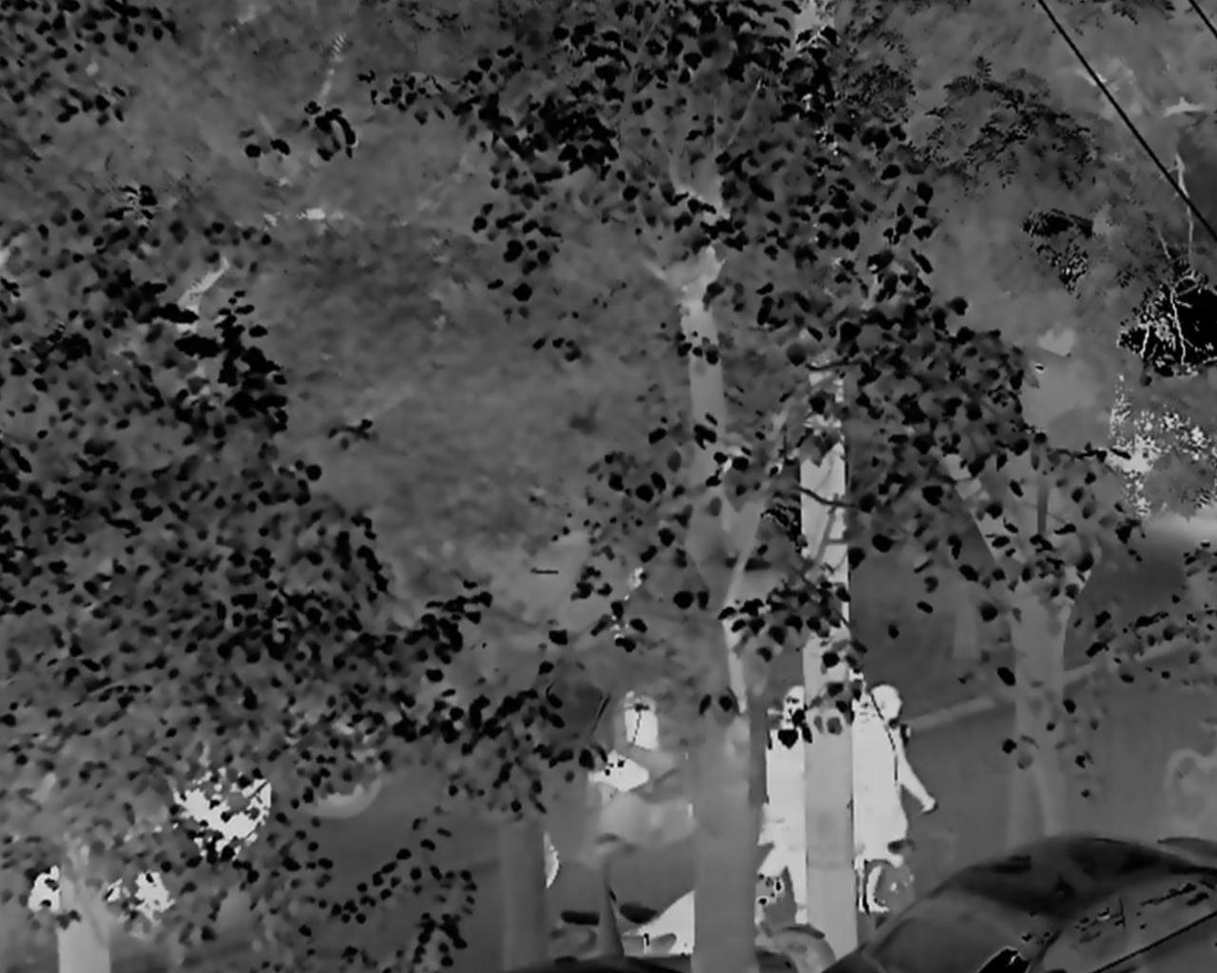person: (850, 676, 935, 911), (756, 684, 808, 927)
